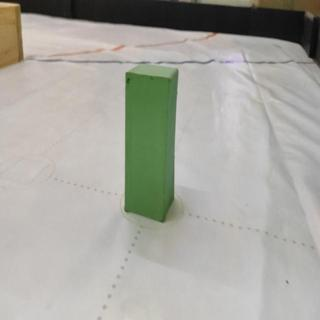greenbox: (124, 61, 182, 224)
